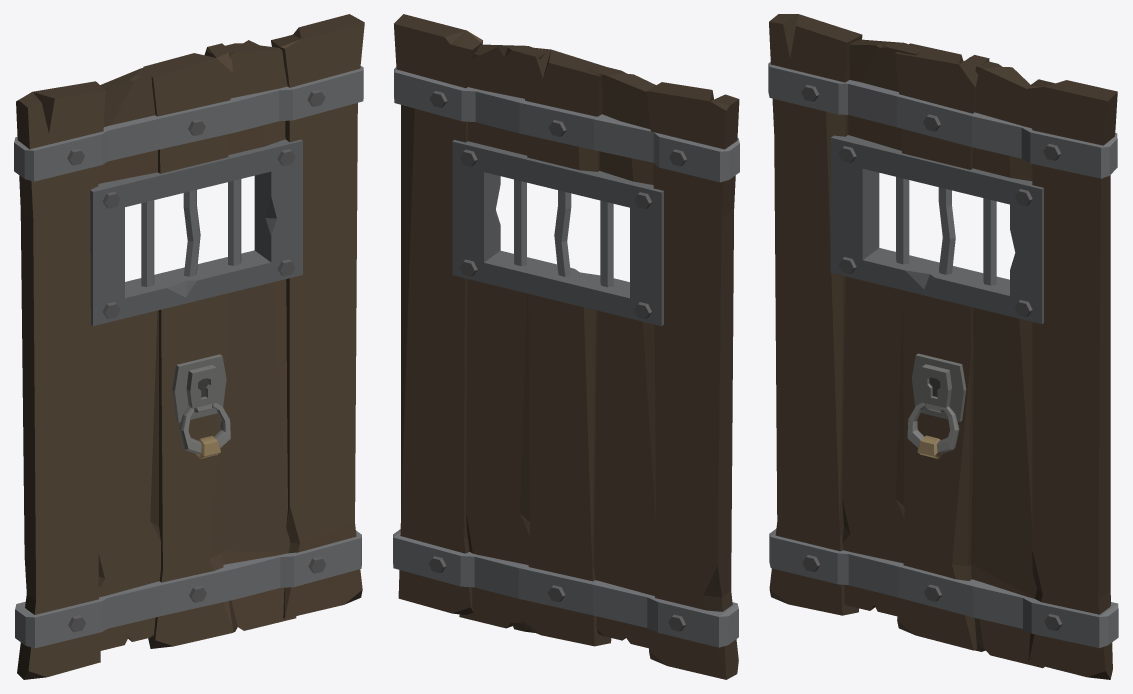
File: SM_Env_Door_04.FBX
The picture shows the model from 3 angles, left to right: view 1: azimuth 30°, elevation 25°; view 2: azimuth 150°, elevation 25°; view 3: azimuth 330°, elevation 25°; orthographic projection.
Parts seen in each view (by area): view 1: SM_Env_Door_04; view 2: SM_Env_Door_04; view 3: SM_Env_Door_04.
Part boxes in pixels (x1,y1,x2,y2): SM_Env_Door_04: (14, 14, 364, 679); SM_Env_Door_04: (393, 14, 739, 679); SM_Env_Door_04: (768, 14, 1118, 679).
Size of what is drawn, in the model's own units: 133 by 22.12 by 218.
